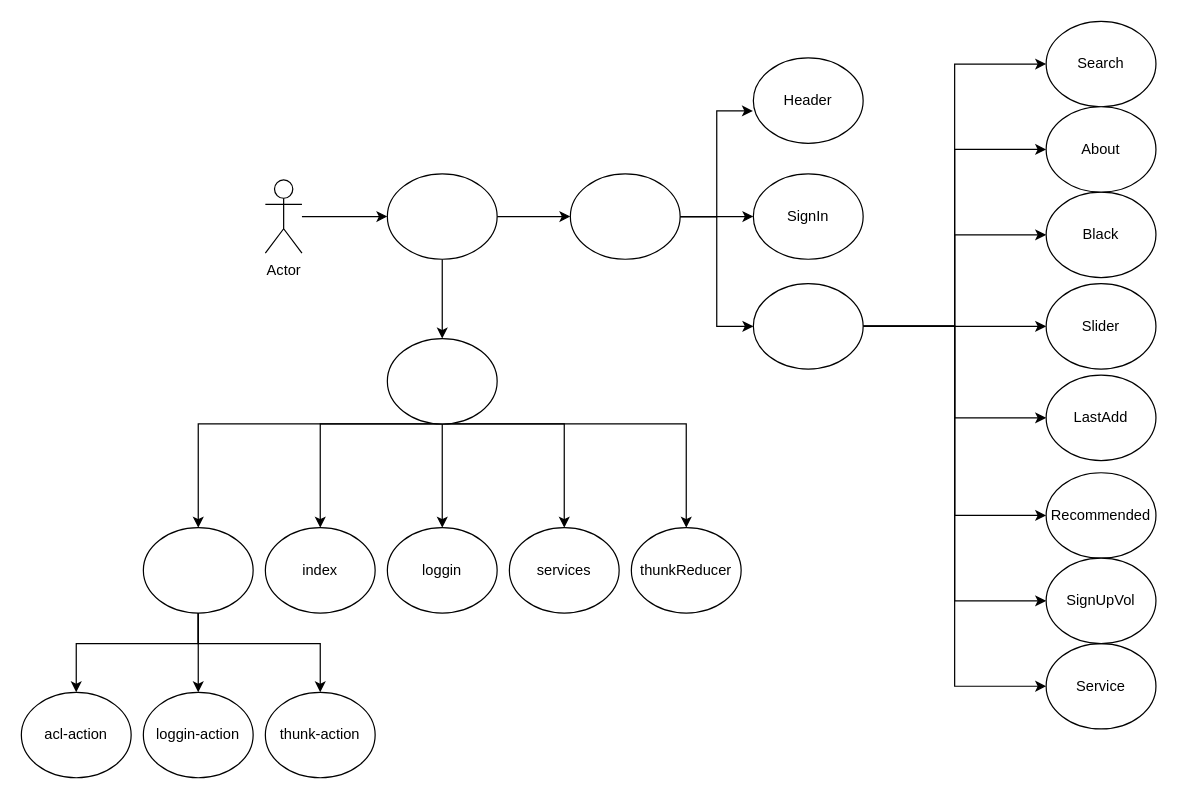
This 1177x799 diagram has some shape labels left out. Each missing label, with the centre of its shape:
actions: the point at 197,569
App: the point at 624,216
Home: the point at 807,325
index.js: the point at 441,216
store: the point at 441,380
